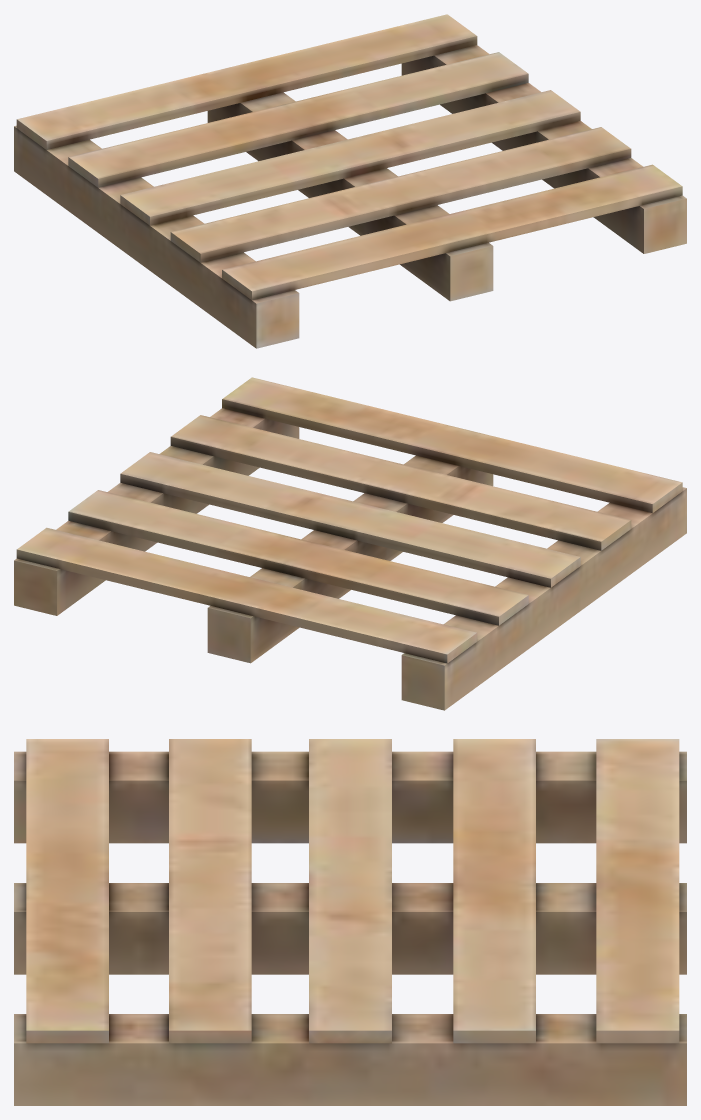
File: Pallet.fbx
3 views of the same model, one above another, from view 1: azimuth 30°, elevation 25°; view 2: azimuth 150°, elevation 25°; view 3: azimuth 270°, elevation 25° (orthographic). The views are drawn at different scales.
Visible parts, largest first — view 1: Pallet; view 2: Pallet; view 3: Pallet.
Part boxes in pixels (box(x1,y1,x2,y2)): Pallet: box(14, 14, 686, 348); Pallet: box(14, 377, 686, 710); Pallet: box(14, 739, 686, 1105).
Bounding box in the file's own units: 1 × 0.12 × 0.975.
